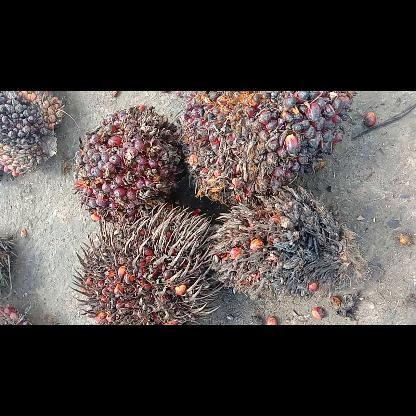TBS masak: (179, 91, 355, 204), (73, 105, 184, 223)
Terlalu masak: (72, 202, 223, 324), (208, 188, 360, 294)
